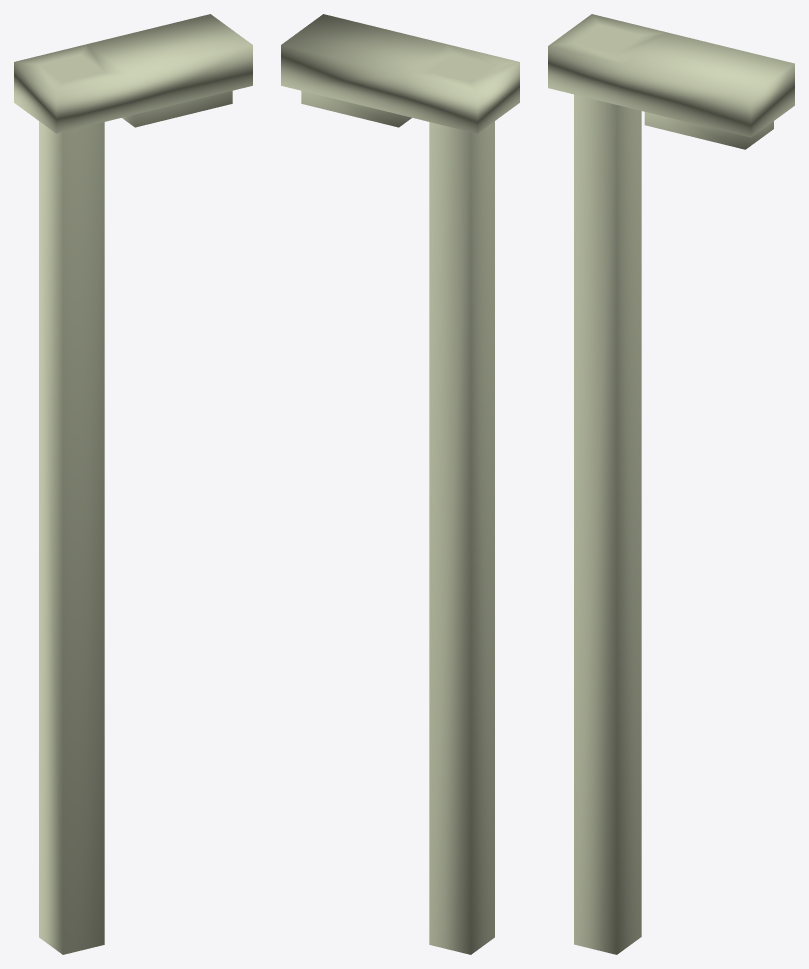
File: pole.obj
3 renders of one model, left to right at view 1: azimuth 30°, elevation 25°; view 2: azimuth 150°, elevation 25°; view 3: azimuth 330°, elevation 25°, orthographic. The views are drawn at different scales.
Parts seen in each view (by area): view 1: Cube1; view 2: Cube1; view 3: Cube1.
Part boxes in pixels (x1=…): Cube1: x1=14, y1=14, x2=252, y2=954; Cube1: x1=281, y1=14, x2=519, y2=954; Cube1: x1=548, y1=14, x2=794, y2=954.
Size of the model in its own units: 0.9335 by 3.96 by 0.3479.
